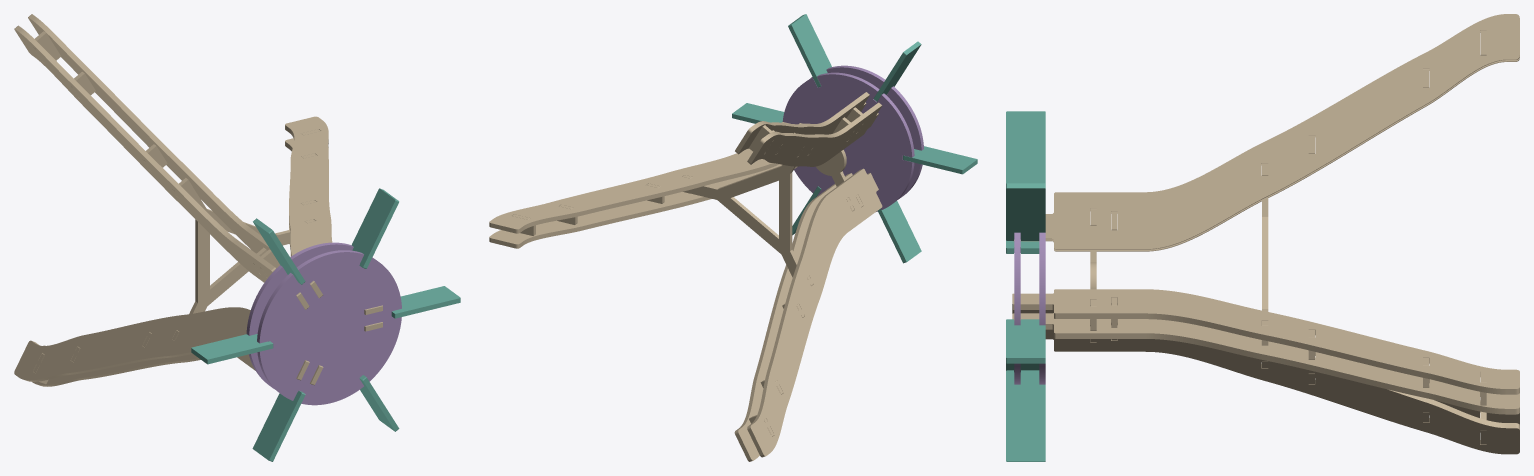
Rendered from A-conditional-DESIGN_ONLY.glb.
3 views of the same model, side by side, from view 1: azimuth 30°, elevation 25°; view 2: azimuth 150°, elevation 25°; view 3: azimuth 270°, elevation 25° (orthographic). The views are drawn at different scales.
Visible parts, largest first — view 1: P04U, L3_P01_1, L1_P01_2, L2_P01_2, L2_P01_1, P06A, P04L, P05_2, P05_5, P05_4, L3_P01_2, P05_1 (+2 smaller); view 2: L3_P01_1, P04L, L1_P01_2, P06A, L2_P01_2, L1_P01_1, L3_P01_2, P04U, L2_P01_1, P05_2, P05_5, P05_4 (+3 smaller); view 3: L2_P01_1, L1_P01_2, L3_P01_2, L1_P01_1, P05_6, P05_3, P05_2, P05_1, L2_P01_2, P06A, P04L, P04U (+2 smaller).
Part boxes in pixels (left/top/right/bottom): P04U: left=257, top=250, right=401, bottom=405; L3_P01_1: left=14, top=307, right=309, bottom=381; L1_P01_2: left=285, top=116, right=382, bottom=314; L2_P01_2: left=14, top=25, right=309, bottom=309; L2_P01_1: left=28, top=14, right=322, bottom=298; P06A: left=172, top=178, right=315, bottom=340; P04L: left=246, top=242, right=353, bottom=389; P05_2: left=351, top=188, right=399, bottom=268; P05_5: left=252, top=391, right=305, bottom=461; P05_4: left=191, top=334, right=273, bottom=364; L3_P01_2: left=32, top=345, right=323, bottom=386; P05_1: left=391, top=286, right=460, bottom=318; L3_P01_1: left=747, top=168, right=882, bottom=457; P04L: left=782, top=72, right=914, bottom=211; L1_P01_2: left=489, top=122, right=803, bottom=233; P06A: left=682, top=148, right=813, bottom=285; L2_P01_2: left=747, top=102, right=882, bottom=166; L1_P01_1: left=489, top=164, right=797, bottom=248; L3_P01_2: left=734, top=173, right=852, bottom=461; P04U: left=810, top=65, right=923, bottom=199; L2_P01_1: left=735, top=92, right=869, bottom=154; P05_2: left=788, top=14, right=831, bottom=87; P05_5: left=878, top=201, right=921, bottom=263; P05_4: left=903, top=146, right=977, bottom=174; L2_P01_1: left=1045, top=14, right=1519, bottom=249; L1_P01_2: left=1012, top=289, right=1519, bottom=394; L3_P01_2: left=1045, top=323, right=1519, bottom=454; L1_P01_1: left=1012, top=313, right=1519, bottom=414; P05_6: left=1006, top=370, right=1045, bottom=461; P05_3: left=1006, top=111, right=1045, bottom=183; P05_2: left=1006, top=183, right=1045, bottom=240; P05_1: left=1006, top=319, right=1045, bottom=363; L2_P01_2: left=1013, top=31, right=1519, bottom=251; P06A: left=1262, top=163, right=1268, bottom=368; P04L: left=1039, top=232, right=1045, bottom=384; P04U: left=1014, top=232, right=1020, bottom=384.
Size of the model in its own units: 0.431 by 0.4673 by 0.494.
